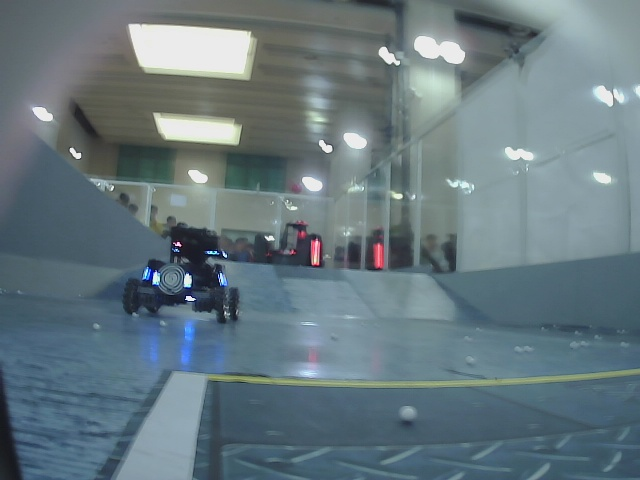lamp: (151, 268, 163, 290), (182, 268, 192, 291)
pair: (153, 270, 192, 289)
